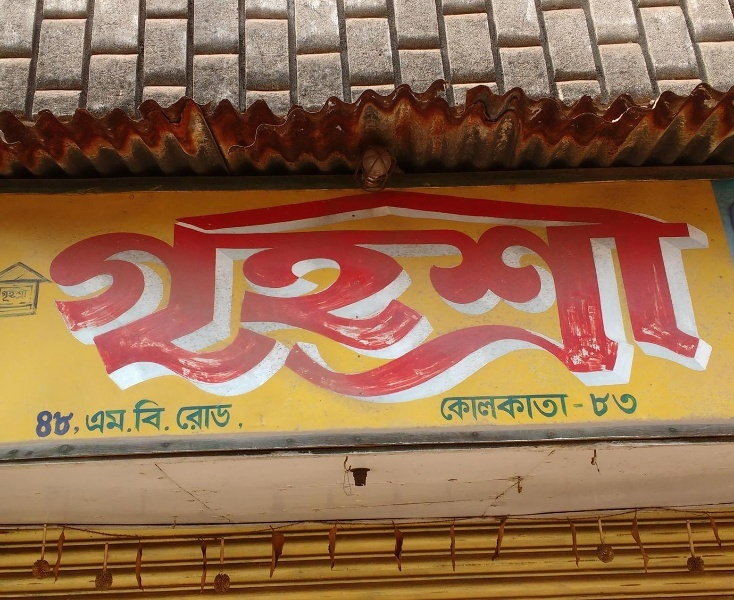text: (49, 182, 64, 404), (65, 182, 80, 404), (81, 182, 96, 404), (97, 182, 112, 404), (113, 182, 128, 404), (129, 182, 144, 404), (145, 182, 160, 404), (161, 182, 176, 404), (177, 182, 192, 404), (193, 182, 208, 404), (209, 182, 224, 404), (225, 182, 240, 404), (241, 182, 256, 404), (257, 182, 272, 404), (273, 182, 288, 404), (289, 182, 304, 404), (305, 182, 320, 404), (321, 182, 336, 404), (337, 182, 352, 404), (353, 182, 368, 404), (369, 182, 384, 404), (385, 182, 400, 404), (401, 182, 416, 404), (417, 182, 432, 404), (433, 182, 448, 404), (449, 182, 464, 404), (465, 182, 480, 404), (481, 182, 496, 404), (497, 182, 512, 404), (513, 182, 528, 404), (529, 182, 544, 404), (545, 182, 560, 404), (561, 182, 576, 404), (577, 182, 592, 404), (593, 182, 608, 404), (609, 182, 624, 404), (625, 182, 640, 404), (641, 182, 656, 404), (657, 182, 672, 404), (673, 182, 688, 404), (689, 182, 704, 404), (705, 182, 718, 404), (42, 182, 48, 404), (145, 397, 160, 434), (433, 387, 448, 424), (449, 387, 464, 424), (465, 387, 480, 424), (481, 387, 496, 424), (497, 387, 512, 424), (513, 387, 528, 424), (529, 387, 544, 424), (545, 387, 560, 424), (561, 387, 576, 424), (577, 387, 592, 424), (193, 402, 208, 435), (209, 402, 224, 435), (225, 402, 240, 435), (178, 402, 192, 435), (33, 409, 48, 439), (49, 409, 64, 439), (65, 409, 80, 439), (593, 390, 608, 420), (609, 390, 624, 420), (625, 390, 640, 420), (97, 408, 112, 436), (113, 408, 128, 436), (133, 397, 144, 434), (161, 397, 171, 434), (84, 408, 96, 436), (2, 287, 16, 305), (17, 287, 31, 305), (586, 390, 592, 420), (241, 402, 245, 435), (129, 408, 133, 436), (81, 409, 83, 439), (641, 390, 643, 420)
